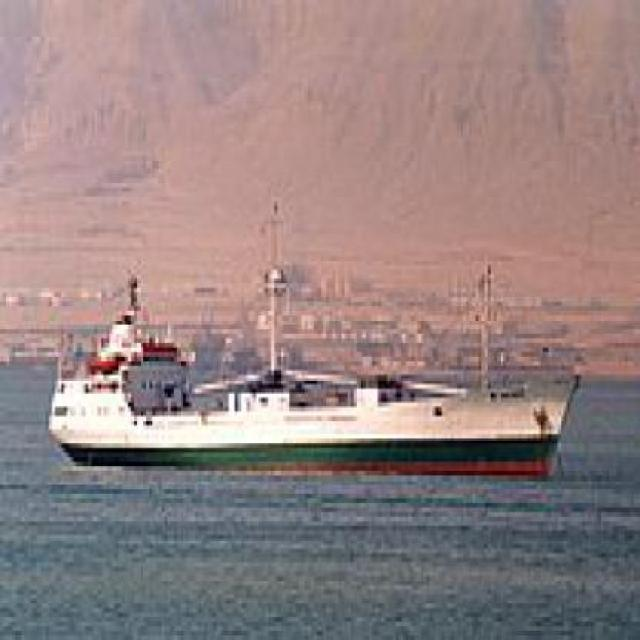container: (44, 303, 587, 504)
